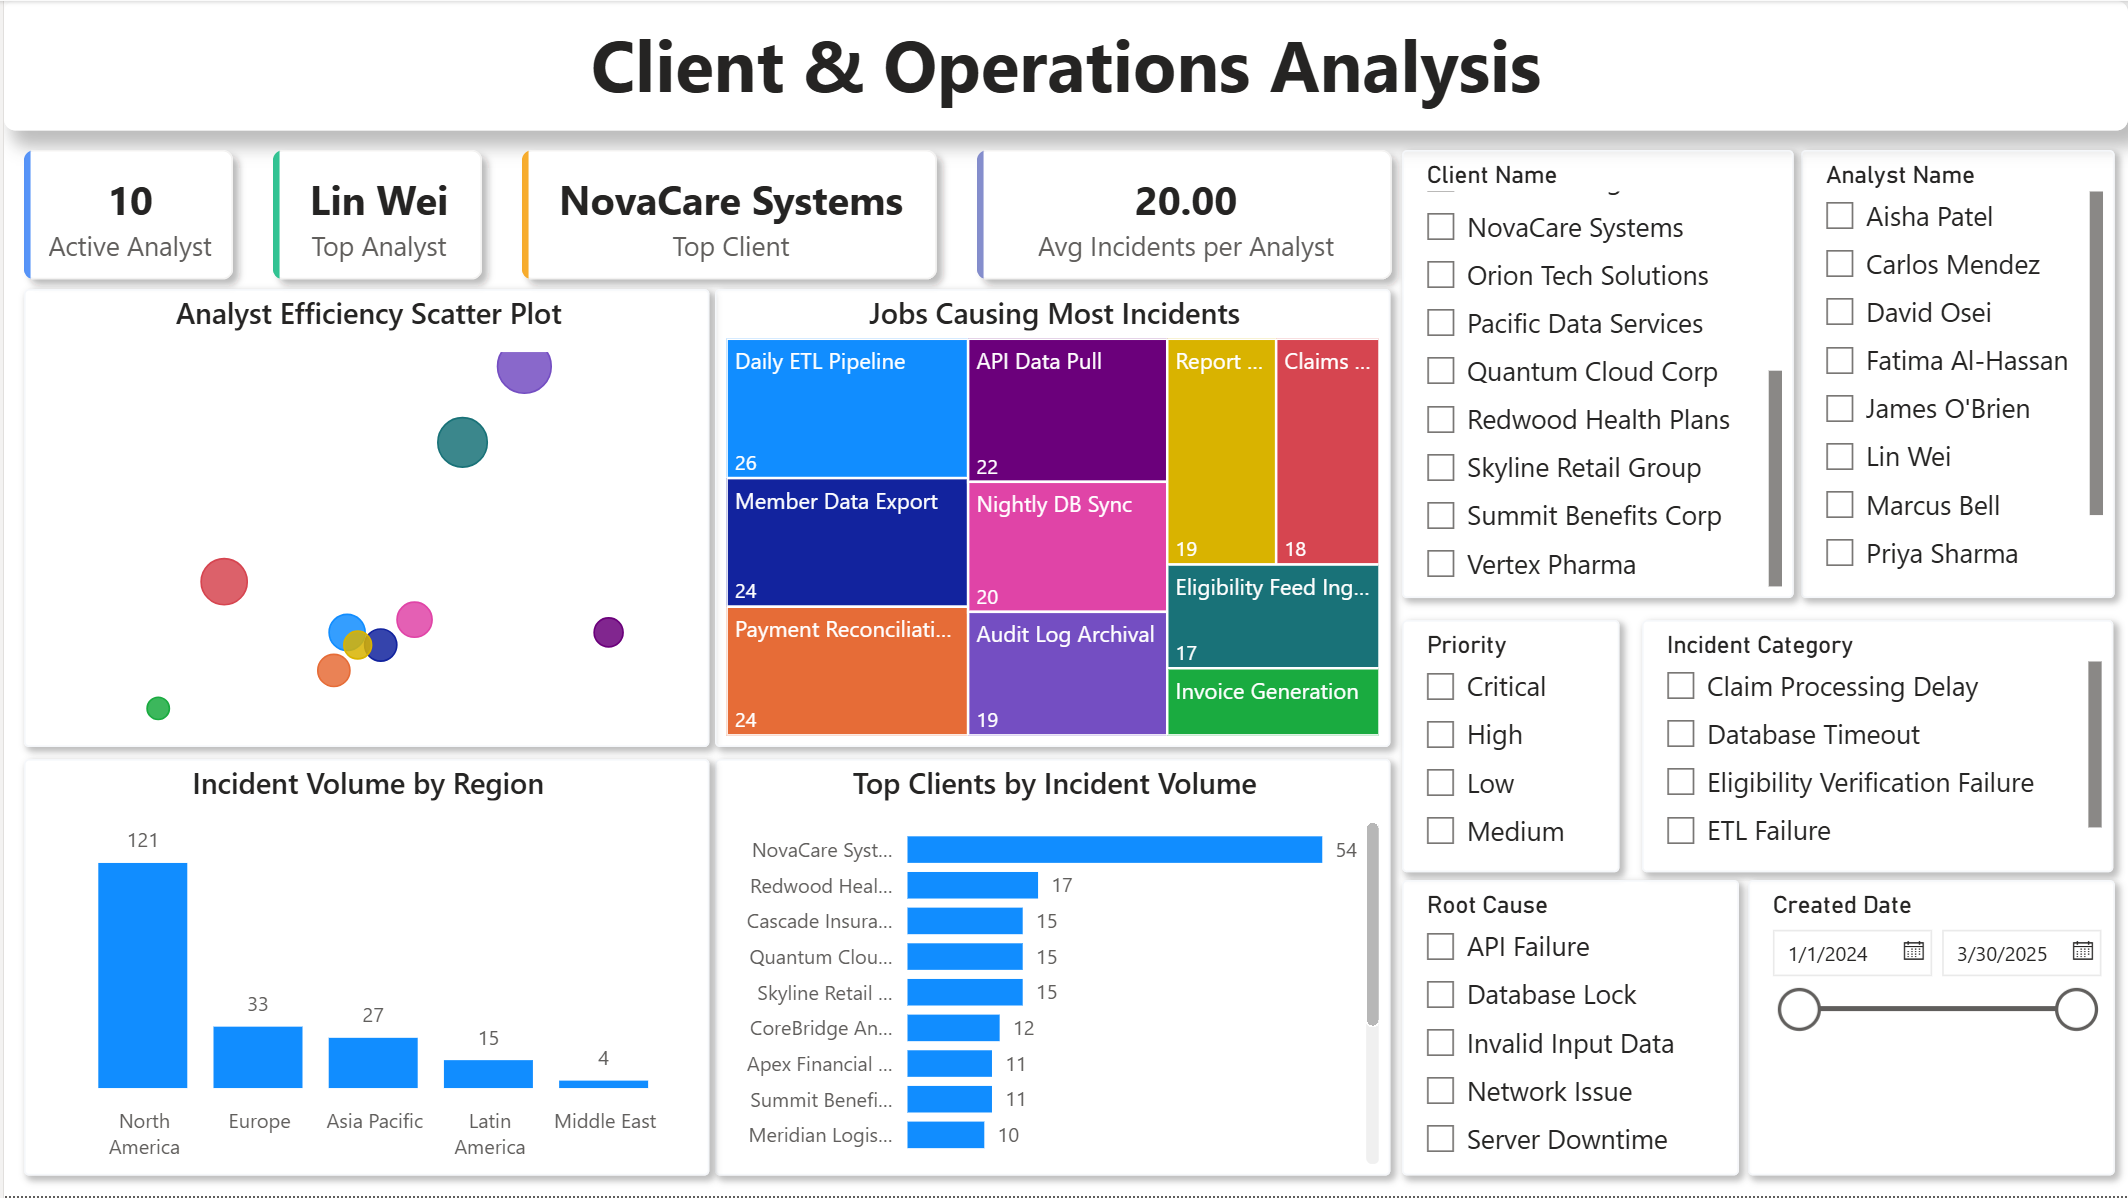

This screenshot's page, from the dashboard's own definition file:
{"tool":"powerbi","page":{"name":"Page 3","canvas":[1280,720],"ordinal":2},"visuals":[{"type":"textbox","box":[0,0,1280,77.7],"z":0},{"type":"slicer","fields":{"Values":["analysts.analyst_name"]},"box":[1082.9,89.8,188.6,270],"z":1000},{"type":"slicer","fields":{"Values":["incidents.incident_category"]},"box":[987.1,373,284.4,152.5],"z":2000},{"type":"cardVisual","fields":{"Data":["analysts.Active Analyst"]},"box":[0,77.7,150.1,102.4],"z":3000},{"type":"cardVisual","fields":{"Data":["analysts.Top Analyst"]},"box":[150.1,77.7,150.1,102.4],"z":4000},{"type":"cardVisual","fields":{"Data":["analysts.Top Client"]},"box":[300.1,77.7,274.2,102.4],"z":5000},{"type":"cardVisual","fields":{"Data":["analysts.Avg Incidents per Analyst"]},"box":[574.3,77.7,274.2,102.4],"z":6000},{"type":"barChart","title":"Top Clients by Incident Volume","fields":{"Category":["clients.client_name"],"Y":["Count(incidents.incident_id)"]},"box":[428.5,456.8,407.4,251.3],"z":7000},{"type":"scatterChart","title":"Analyst Efficiency Scatter Plot","fields":{"X":["analysts.Average Resolution Time"],"Y":["analysts.Resolved Incidents"],"Size":["analysts.Total Incidents"],"Series":["analysts.analyst_name"]},"box":[12.1,173.6,413.4,276],"z":8000},{"type":"slicer","fields":{"Values":["clients.client_name"]},"box":[842.5,89.8,235.6,270],"z":9000},{"type":"slicer","fields":{"Values":["incidents.priority"]},"box":[842.5,373,131.4,152.5],"z":10000},{"type":"slicer","fields":{"Values":["incidents.created_date"]},"box":[1051,529.7,220.6,178.4],"z":11000},{"type":"columnChart","title":"Incident Volume by Region","fields":{"Category":["clients.region"],"Y":["CountNonNull(incidents.incident_id)"]},"box":[12.1,456.8,412.8,251.3],"z":12000},{"type":"treemap","title":"Jobs Causing Most Incidents","fields":{"Group":["jobs.job_name"],"Values":["Count(incidents.incident_id)"]},"box":[428.5,173.6,407.4,276],"z":13000},{"type":"slicer","fields":{"Values":["incidents.root_cause"]},"box":[842.5,529.7,203.1,178.4],"z":14000}]}

Visuals, with their boxes in screenshot pixels (x1, y1, x2, y2), scaled from the page's 1280x720 canvas onto the 2128x1198 screenshot:
textbox: region(0, 0, 2127, 129)
slicer - analysts.analyst_name: region(1800, 149, 2114, 599)
slicer - incidents.incident_category: region(1641, 621, 2114, 874)
cardVisual - analysts.Active Analyst: region(0, 129, 250, 300)
cardVisual - analysts.Top Analyst: region(250, 129, 499, 300)
cardVisual - analysts.Top Client: region(499, 129, 955, 300)
cardVisual - analysts.Avg Incidents per Analyst: region(955, 129, 1411, 300)
"Top Clients by Incident Volume" barChart: region(712, 760, 1390, 1178)
"Analyst Efficiency Scatter Plot" scatterChart: region(20, 289, 707, 748)
slicer - clients.client_name: region(1401, 149, 1792, 599)
slicer - incidents.priority: region(1401, 621, 1619, 874)
slicer - incidents.created_date: region(1747, 881, 2114, 1178)
"Incident Volume by Region" columnChart: region(20, 760, 706, 1178)
"Jobs Causing Most Incidents" treemap: region(712, 289, 1390, 748)
slicer - incidents.root_cause: region(1401, 881, 1738, 1178)
